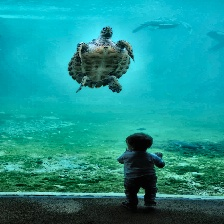seaturtle: (67, 26, 134, 94), (117, 133, 165, 212)
